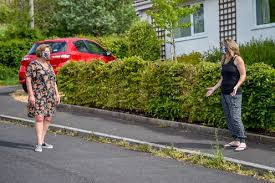Good: (23, 36, 246, 154)
